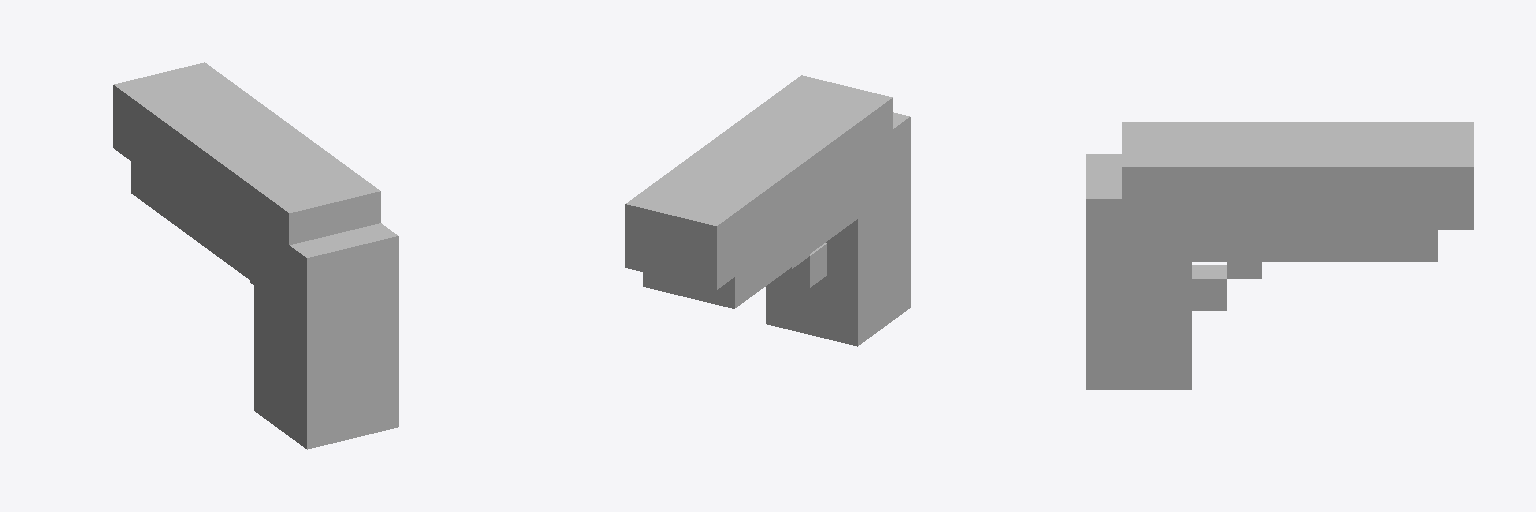
Rendered from pistol.obj.
3 renders of one model, left to right at view 1: azimuth 30°, elevation 25°; view 2: azimuth 150°, elevation 25°; view 3: azimuth 270°, elevation 25°, orthographic.
Parts seen in each view (by area): view 1: object 1; view 2: object 1; view 3: object 1.
Boxes of the visible parts, x1=… form: object 1: x1=113, y1=62, x2=398, y2=449; object 1: x1=625, y1=75, x2=910, y2=346; object 1: x1=1086, y1=122, x2=1473, y2=389.
Bounding box in the file's own units: 0.3 × 0.7 × 1.1.